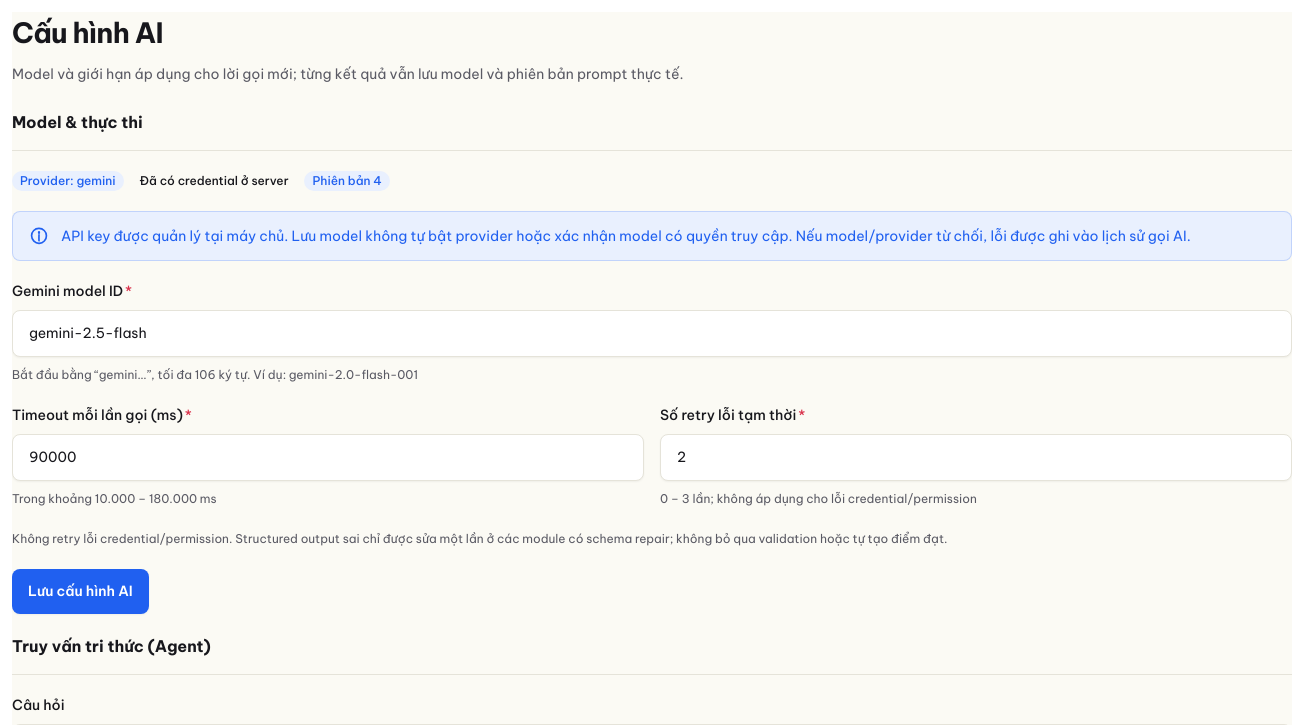
Scenario: confirms a real successful save, preserves the version and blocks a repeated submit while pending
The width and height of the screenshot is (1304, 725).
Step 1. Replace the text in the field labelled "Gemini model ID*" with "gemini-2.5-pro" → (652, 334), box [12,310,1292,357]
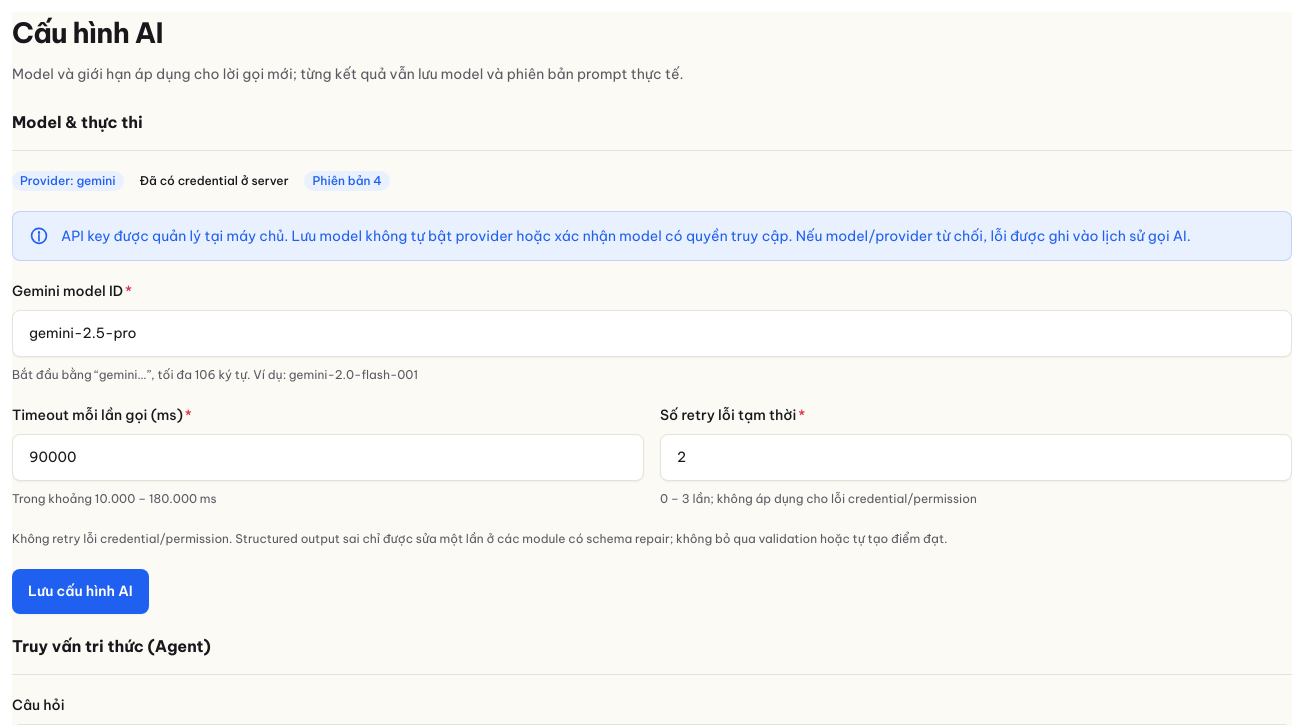
Step 2. Submit the form named "Lưu cấu hình AI", box [12,171,1292,614]
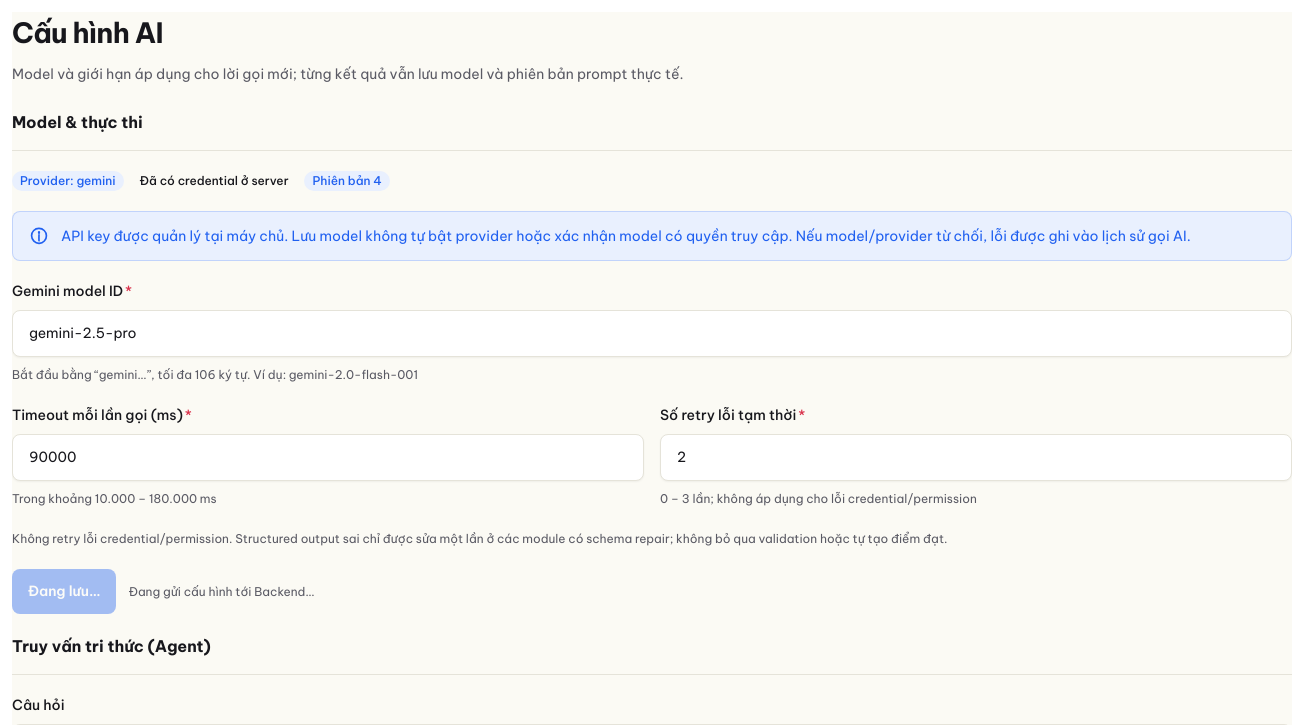
Step 3. Submit the form named "Lưu cấu hình AI", box [12,171,1292,614]
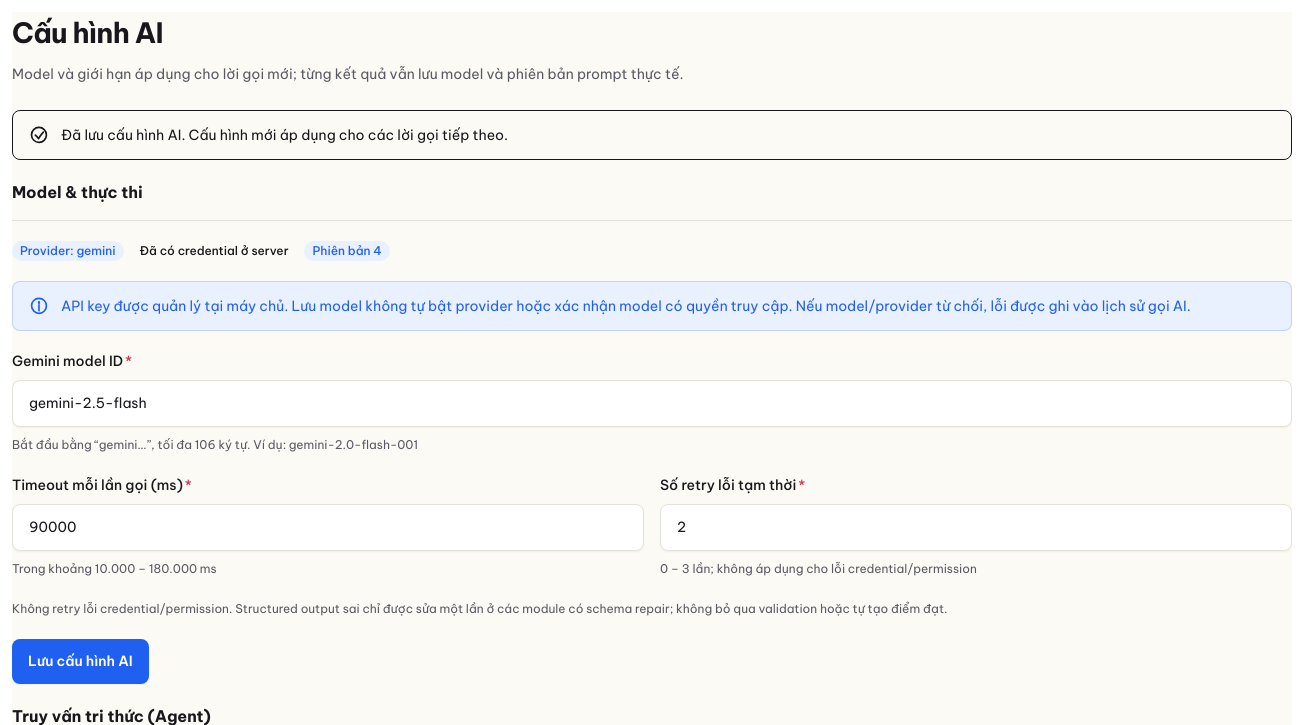
Expected: the text "Đã lưu cấu hình AI. Cấu hình mới áp dụng cho các lời gọi tiếp theo." is shown, [12,110,1292,160]
